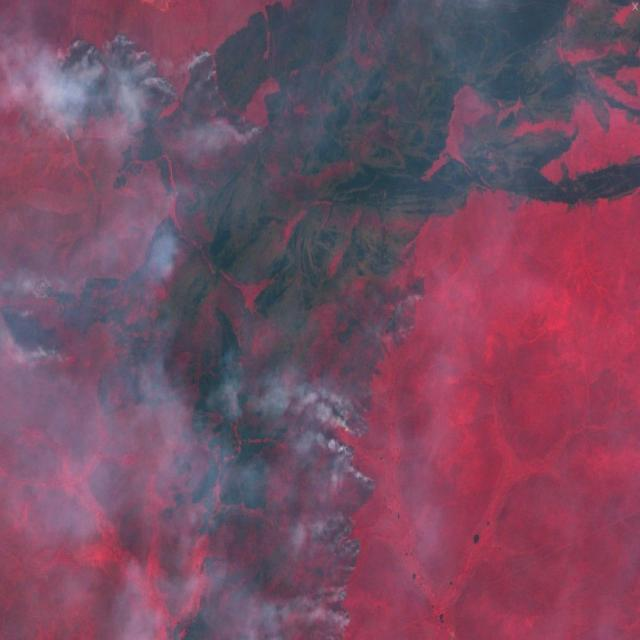fire: (323, 270, 429, 640), (43, 22, 265, 159), (0, 256, 75, 366)
